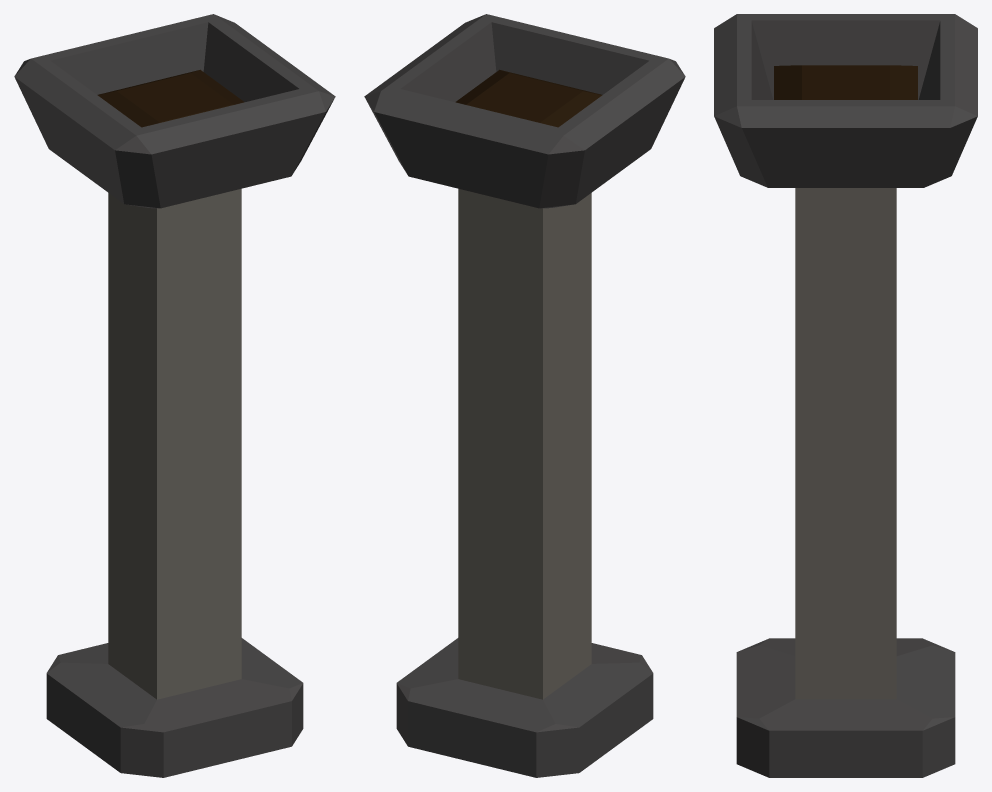
File: Torch.fbx
3 views of the same model, side by side, from view 1: azimuth 30°, elevation 25°; view 2: azimuth 150°, elevation 25°; view 3: azimuth 270°, elevation 25° (orthographic). The views are drawn at different scales.
Visible parts, largest first — view 1: Cube; view 2: Cube; view 3: Cube.
Part boxes in pixels (x1,y1,x2,y2): Cube: [14, 14, 335, 777]; Cube: [364, 14, 685, 777]; Cube: [714, 14, 977, 777].
Bounding box in the file's own units: 46.81 × 132 × 46.81.
